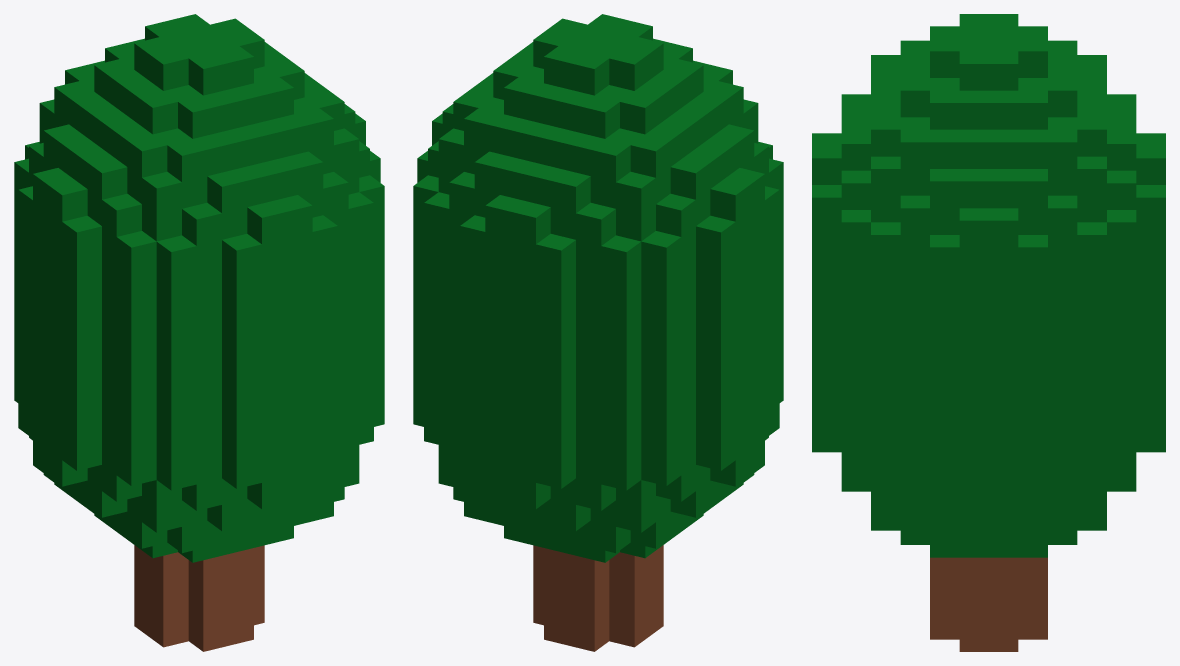
The model's file is tree-7.gltf.
3 views of the same model, side by side, from view 1: azimuth 30°, elevation 25°; view 2: azimuth 150°, elevation 25°; view 3: azimuth 270°, elevation 25° (orthographic).
Visible parts, largest first — view 1: tree-7; view 2: tree-7; view 3: tree-7.
Boxes of the visible parts, bbox=[...] form: tree-7: bbox=[14, 14, 384, 651]; tree-7: bbox=[413, 14, 783, 651]; tree-7: bbox=[812, 14, 1165, 651].
Bounding box in the file's own units: 1.2 × 2.2 × 1.2.
1 material, 1 textured.
